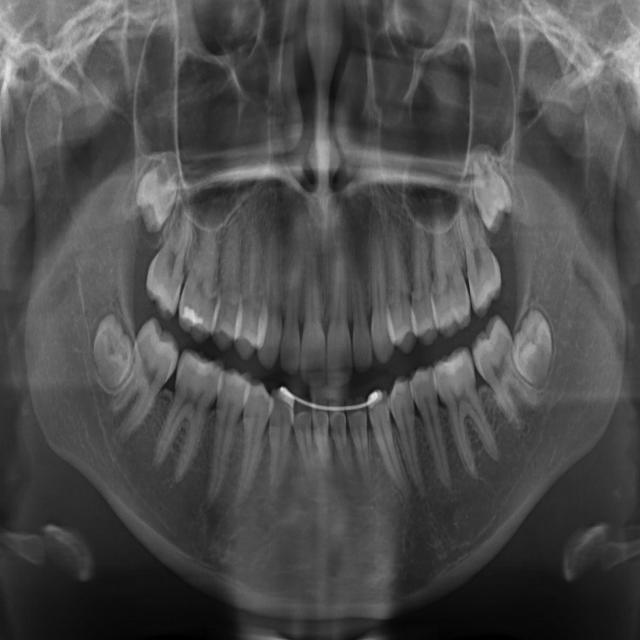3M ESPE Implant: (125, 144, 187, 237)
AGS Medikal Implant: (457, 310, 553, 438)
AMerOss Implant: (426, 341, 507, 487)
Amalgam filling: (174, 197, 185, 231)
Anthogyr Implant: (407, 363, 457, 492)
Bicon Implant: (387, 373, 426, 501)
BioHorizons Implant: (363, 386, 413, 500)
BioLife Implant: (344, 393, 377, 495)
Biomet 3i Implant: (325, 395, 359, 482)
Blue Sky Bio Implant: (308, 394, 339, 484)
Camlog Implant: (289, 393, 322, 486)
Caries: (346, 244, 374, 374)
Composite filling: (267, 385, 294, 507)
Cowellmedi Implant: (229, 376, 273, 513)
Crown: (192, 364, 253, 519)
DENTSPLY Implant: (174, 219, 225, 346)
Dentatus Implant: (147, 346, 227, 484)
Dentis Implant: (89, 313, 191, 451)
Dentium Implant: (79, 309, 138, 390)
Euroteknika Implant: (211, 219, 247, 353)
Filling: (233, 214, 268, 364)
Frontier Implant: (255, 223, 292, 372)
Hiossen Implant: (359, 204, 395, 365)
Implant: (300, 244, 327, 387)
Implant Direct: (278, 251, 311, 377)
Keystone Dental Implant: (327, 241, 353, 386)
MIS Implant: (381, 211, 419, 358)
Mandible: (401, 206, 440, 348)
Maxilla: (418, 192, 475, 340)
Megagen Implant: (453, 189, 508, 319)
Neodent Implant: (459, 145, 523, 239)
Neoss Implant: (506, 305, 569, 390)
